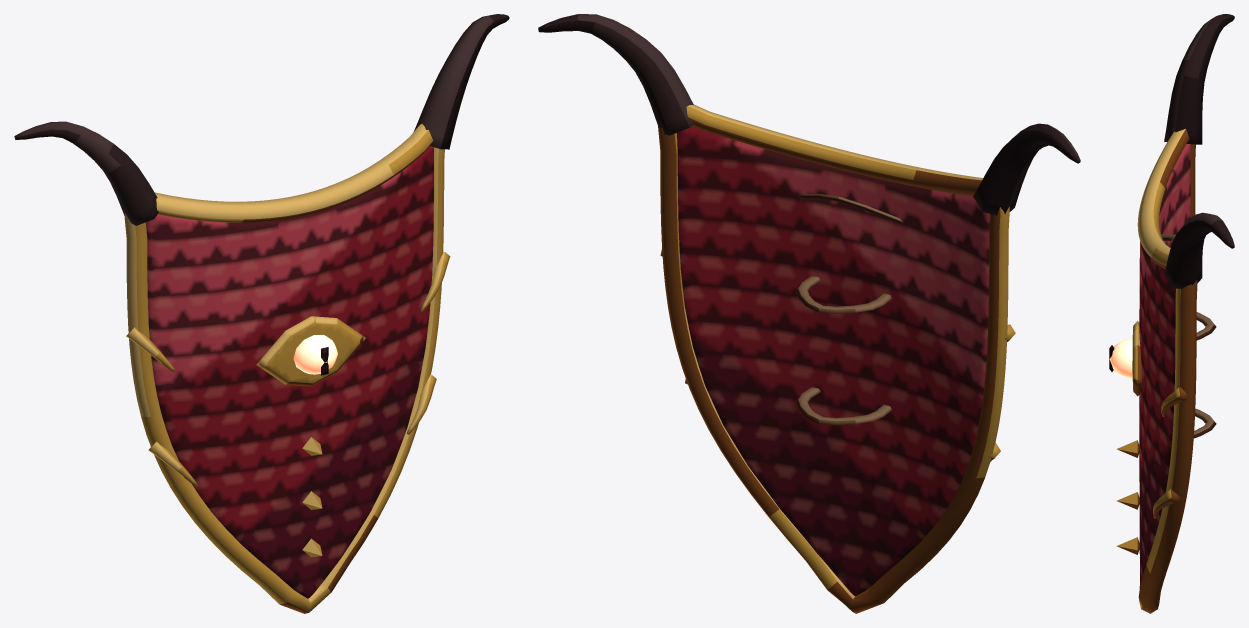
The model's file is sh_dragon_aegis.glb.
3 views of the same model, side by side, from view 1: azimuth 30°, elevation 25°; view 2: azimuth 150°, elevation 25°; view 3: azimuth 270°, elevation 25° (orthographic). The views are drawn at different scales.
Visible parts, largest first — view 1: Weapon; view 2: Weapon; view 3: Weapon.
Boxes of the visible parts, x1=… form: Weapon: x1=14, y1=14, x2=509, y2=613; Weapon: x1=538, y1=14, x2=1080, y2=613; Weapon: x1=1109, y1=14, x2=1234, y2=613.
Bounding box in the file's own units: 0.7646 × 0.7674 × 0.1761.
